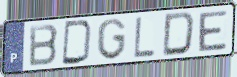B: (28, 23, 60, 69)
D: (161, 10, 197, 58), (61, 19, 95, 66)
E: (197, 9, 229, 54)
G: (96, 17, 127, 62)
L: (133, 15, 156, 59)
